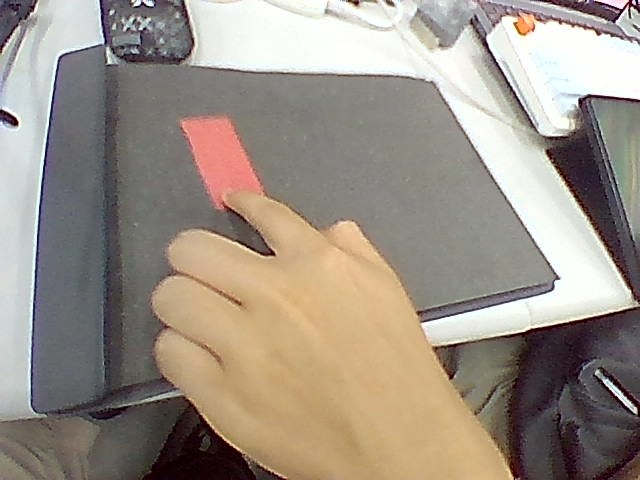card: (181, 117, 263, 209)
